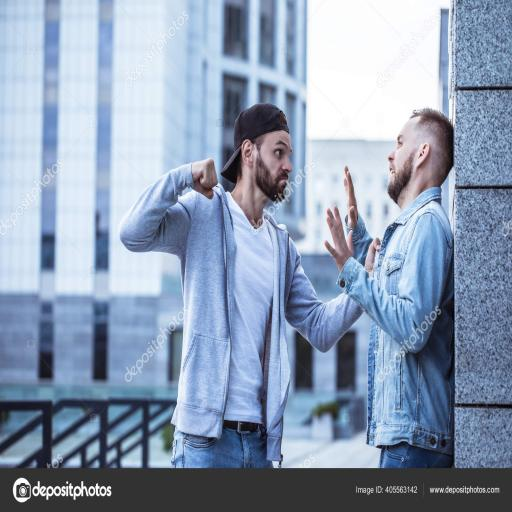fight: (112, 45, 492, 374)
